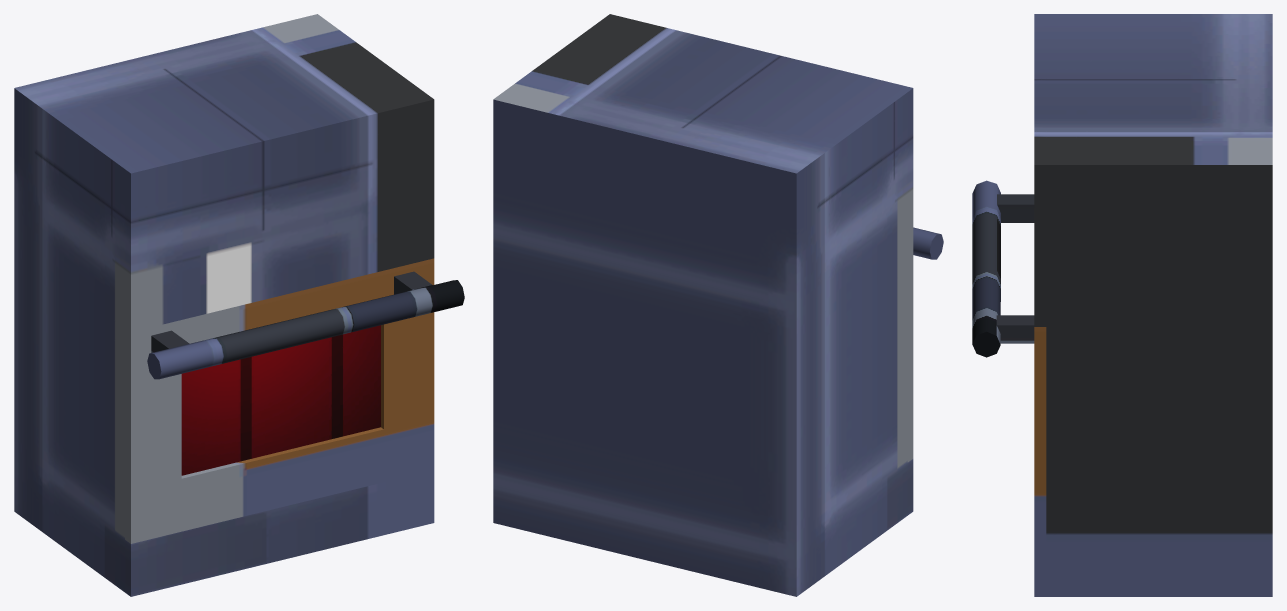
The model's file is Oven_Wide.fbx.
3 renders of one model, left to right at view 1: azimuth 30°, elevation 25°; view 2: azimuth 150°, elevation 25°; view 3: azimuth 270°, elevation 25°, orthographic. The views are drawn at different scales.
Visible parts, largest first — view 1: Oven_Wide, Oven_Door; view 2: Oven_Wide, Oven_Door; view 3: Oven_Wide, Oven_Door.
Part boxes in pixels (left/top/right/bottom): Oven_Wide: left=14, top=14, right=434, bottom=596; Oven_Door: left=125, top=258, right=464, bottom=543; Oven_Wide: left=493, top=14, right=913, bottom=596; Oven_Door: left=907, top=227, right=943, bottom=462; Oven_Wide: left=1034, top=14, right=1272, bottom=596; Oven_Door: left=972, top=180, right=1046, bottom=542.
Bounding box in the file's own units: 1.5 × 2 × 1.26.
2 materials, 2 textured.
